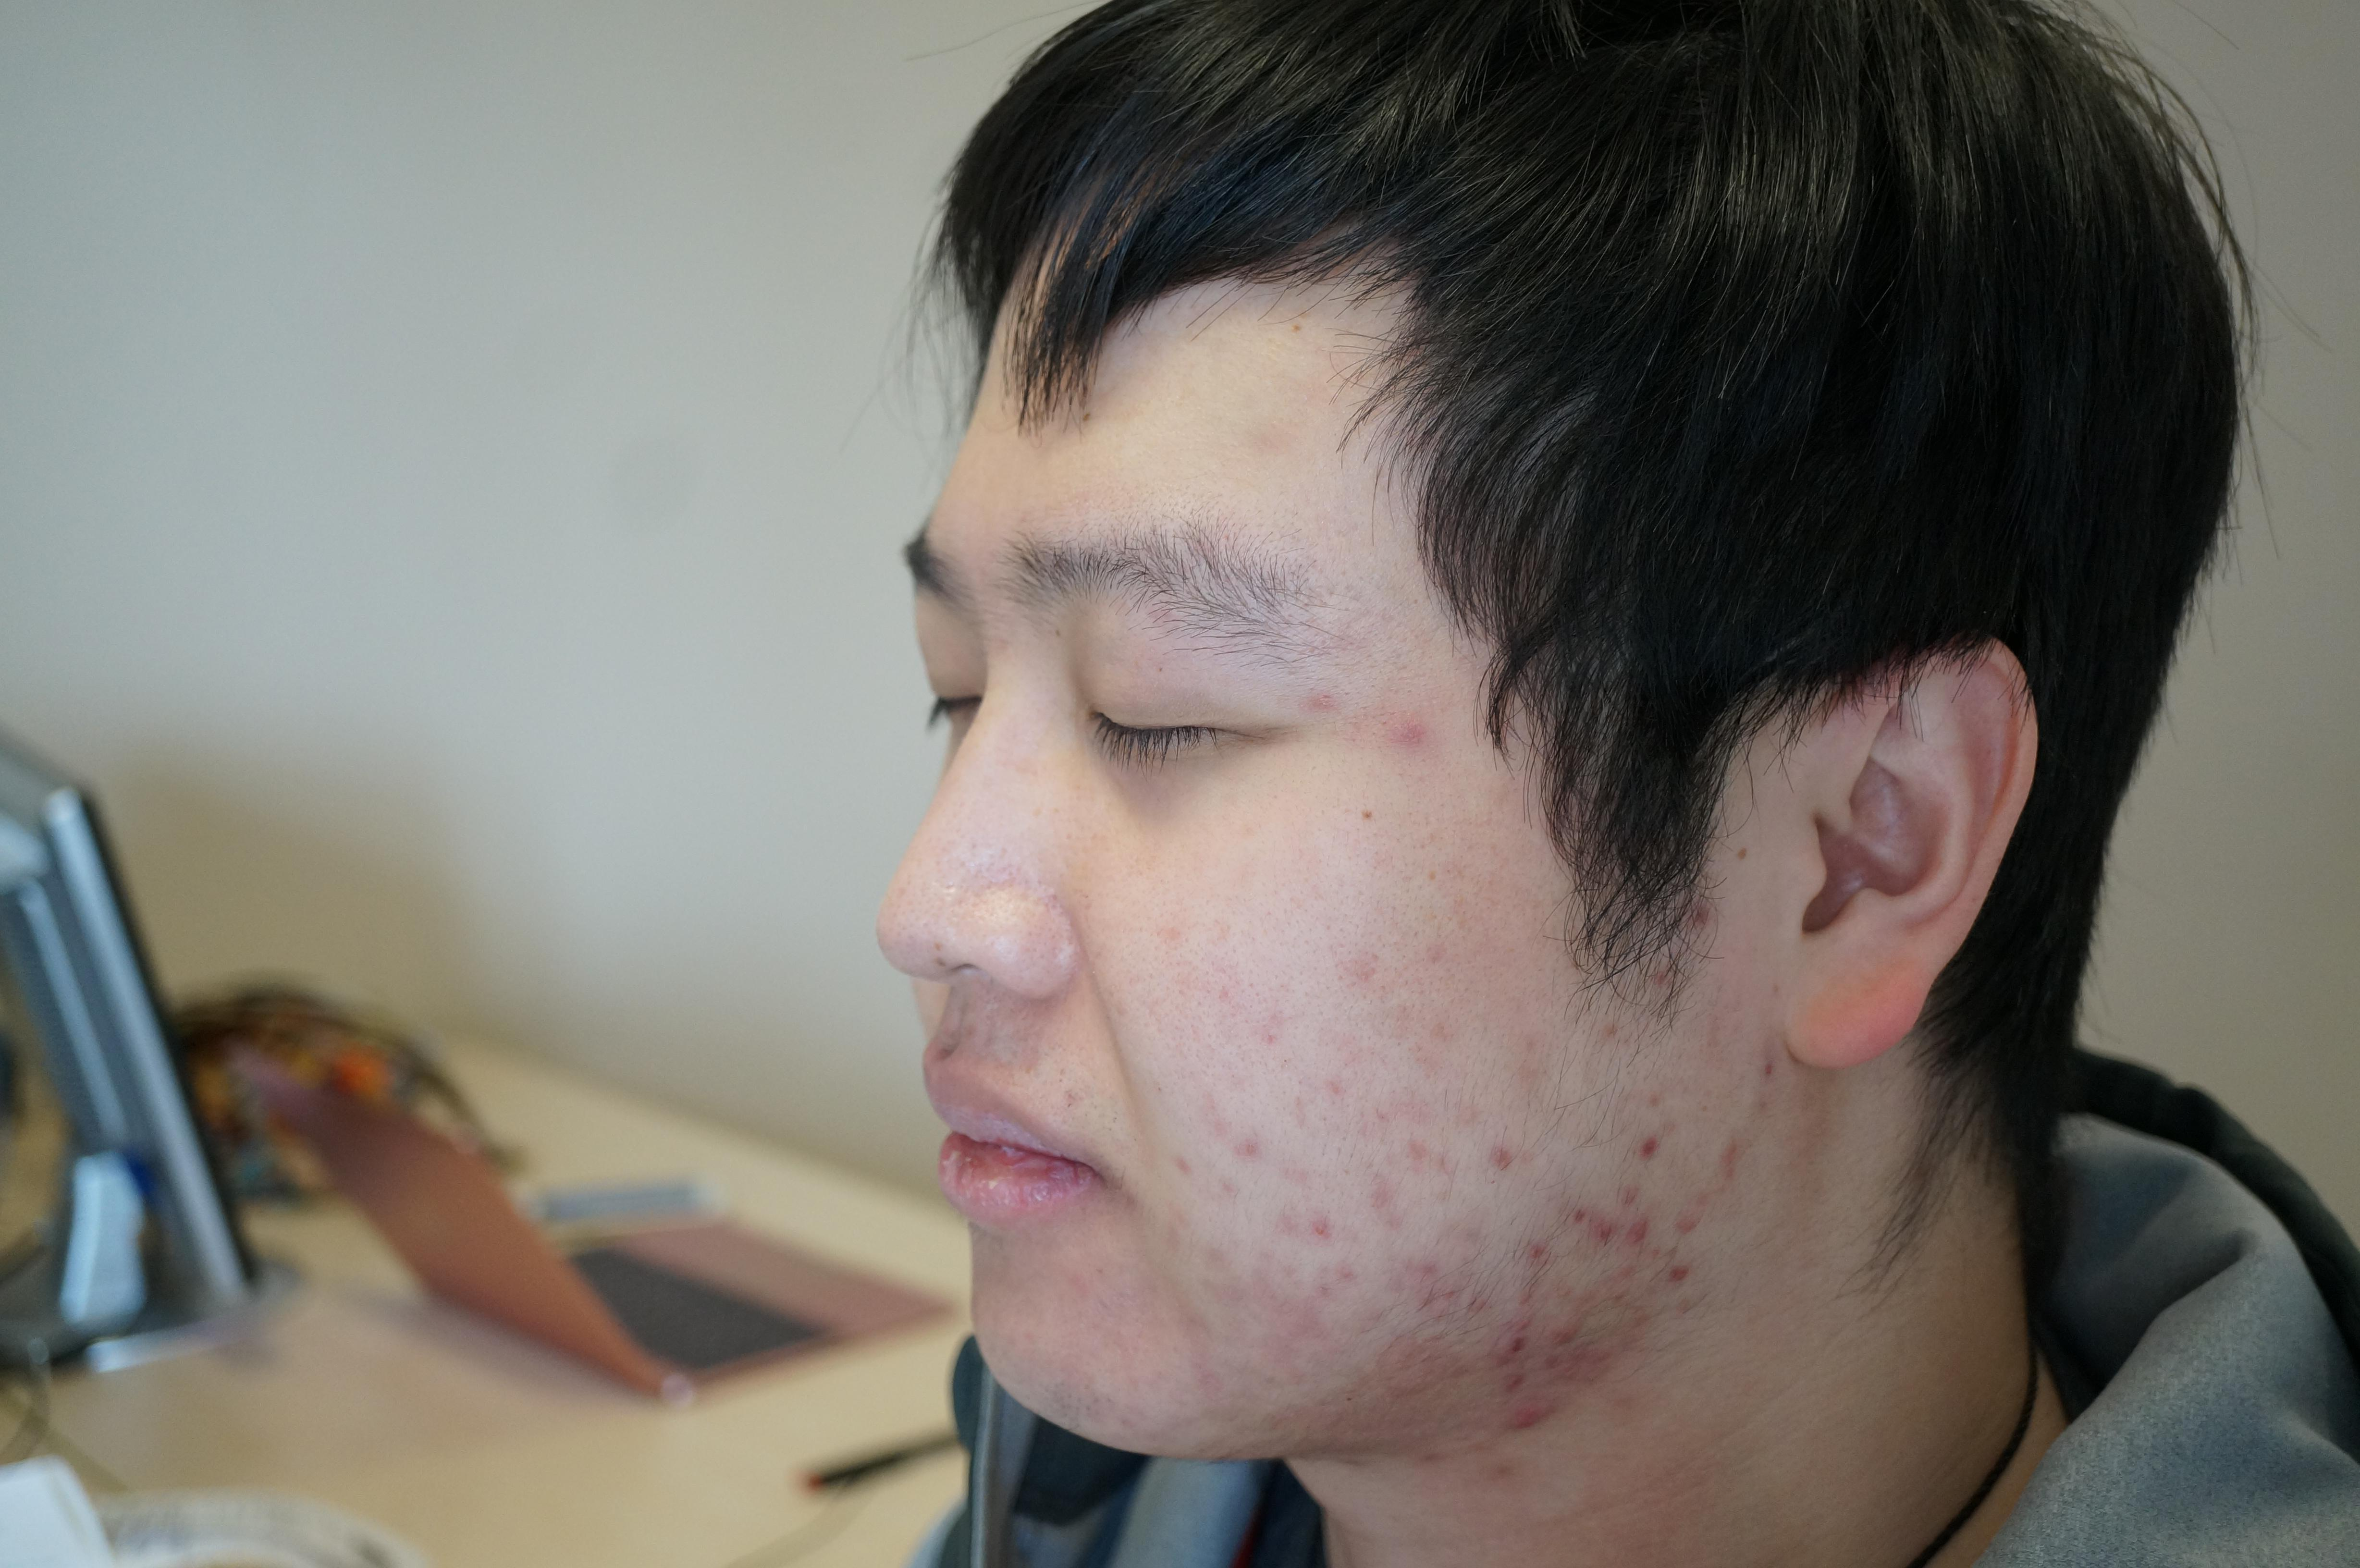fore: (1368, 681, 1456, 786), (1277, 668, 1368, 756), (1380, 1108, 1461, 1188), (1601, 1111, 1688, 1185), (1505, 1232, 1588, 1307), (1573, 1151, 1623, 1251), (1496, 1295, 1557, 1375), (1604, 1172, 1669, 1244), (1545, 1295, 1611, 1360), (1401, 1272, 1468, 1332), (1281, 1192, 1352, 1244), (1692, 1132, 1763, 1185), (1464, 1120, 1512, 1192), (1212, 1120, 1265, 1176), (1365, 1344, 1428, 1388), (1312, 929, 1352, 996), (1648, 1179, 1695, 1235), (1505, 1375, 1545, 1440), (1237, 996, 1289, 1045), (1312, 1235, 1349, 1300), (1639, 1241, 1688, 1288), (1361, 1185, 1408, 1232), (1477, 1363, 1524, 1400), (1401, 1241, 1433, 1272)
